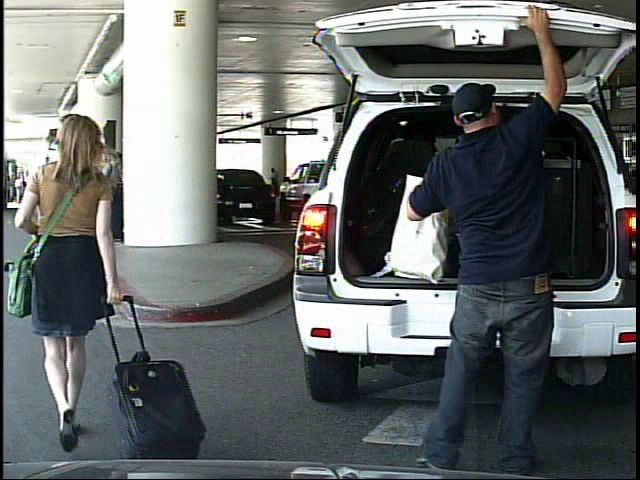person: (390, 4, 576, 480), (31, 106, 162, 442), (269, 165, 283, 200), (15, 173, 25, 203)
